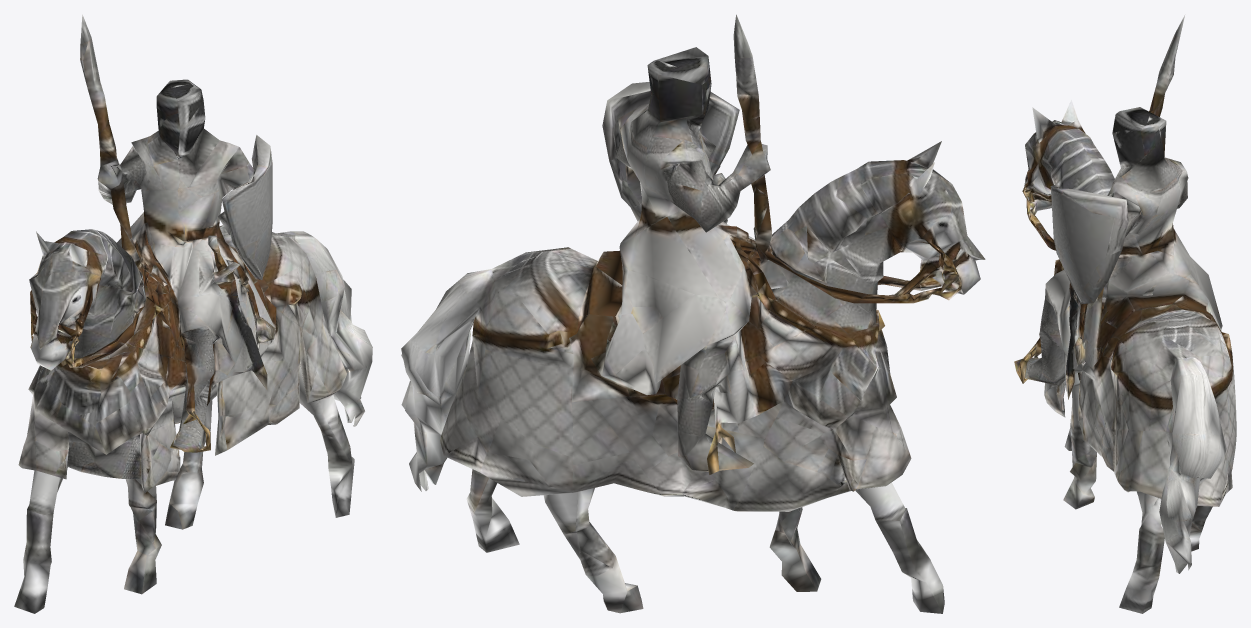
File: ritter.glb
3 views of the same model, side by side, from view 1: azimuth 30°, elevation 25°; view 2: azimuth 150°, elevation 25°; view 3: azimuth 270°, elevation 25° (orthographic). The views are drawn at different scales.
Bounding box in the file's own units: 1.54 × 1.9 × 0.781.
Materials: 1 (1 with a texture image).
